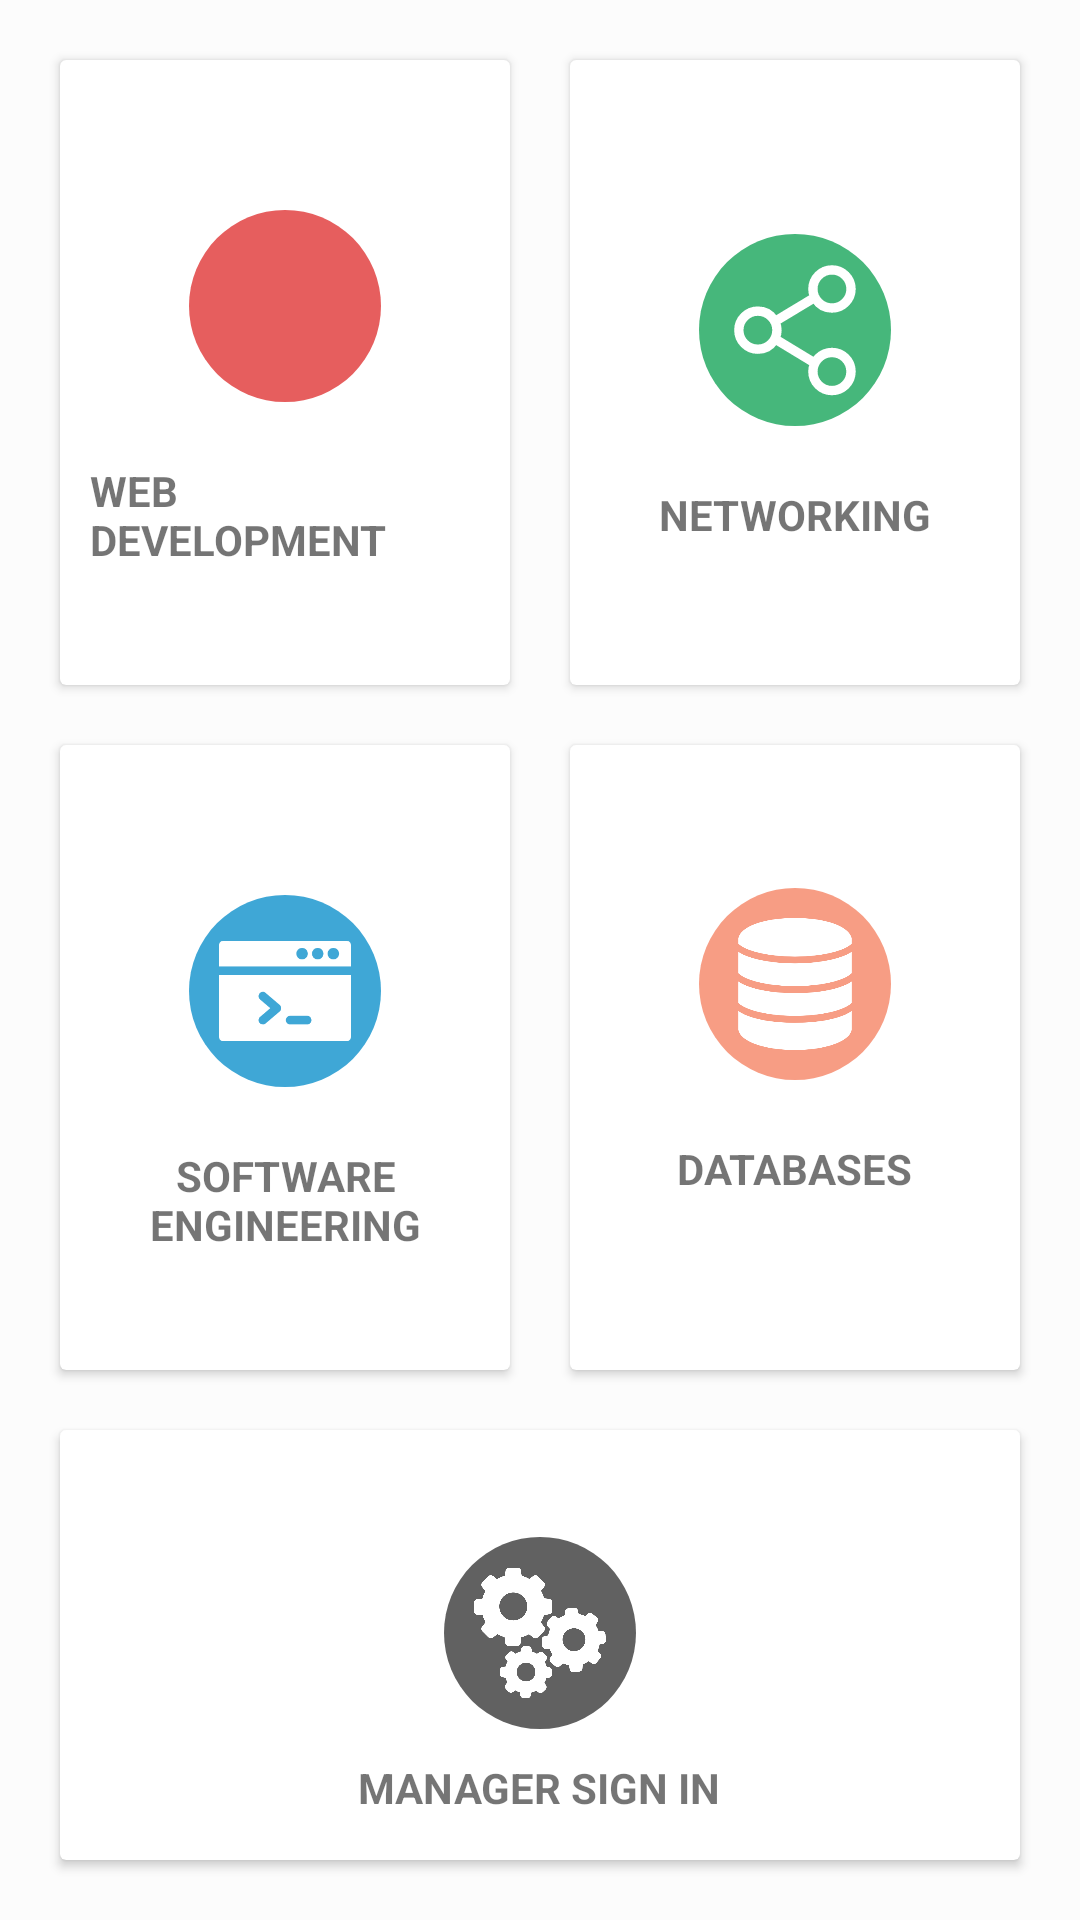

Icon click points for this 1080px x 1920px phone screenshot, format (x,y):
manager gears: (540,1633)
programming: (285,991)
